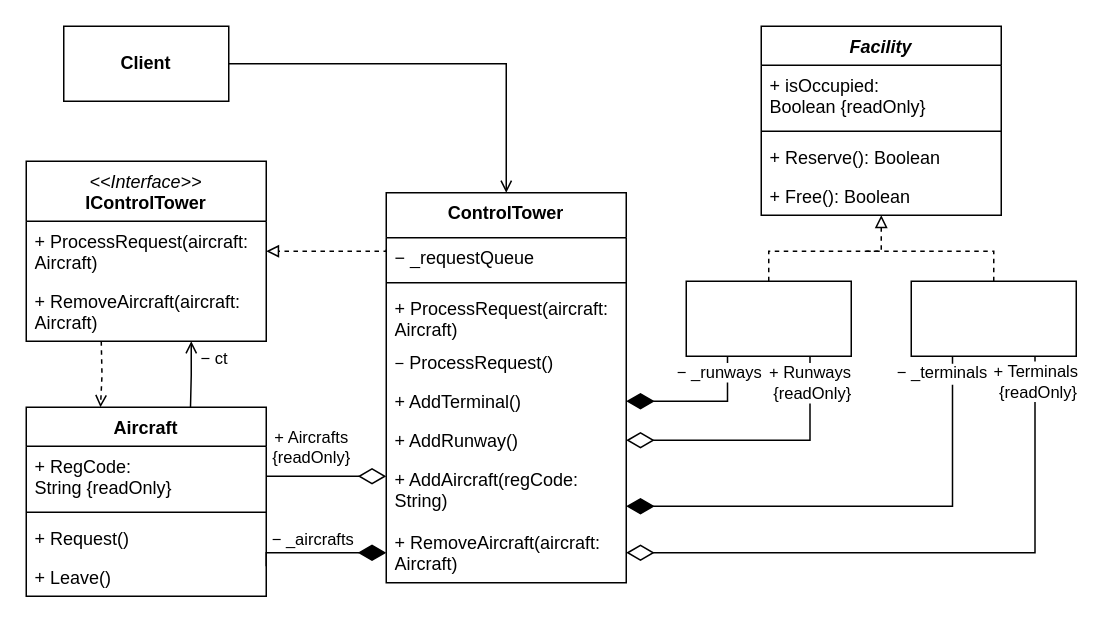
This 1104x627 diagram has some shape labels left out. The shapes that lost their labels are listed below. From the top down, each one's centre as x and y in pixels, then its label:
At point (768, 318): "Runway".
At point (993, 318): "Terminal".
